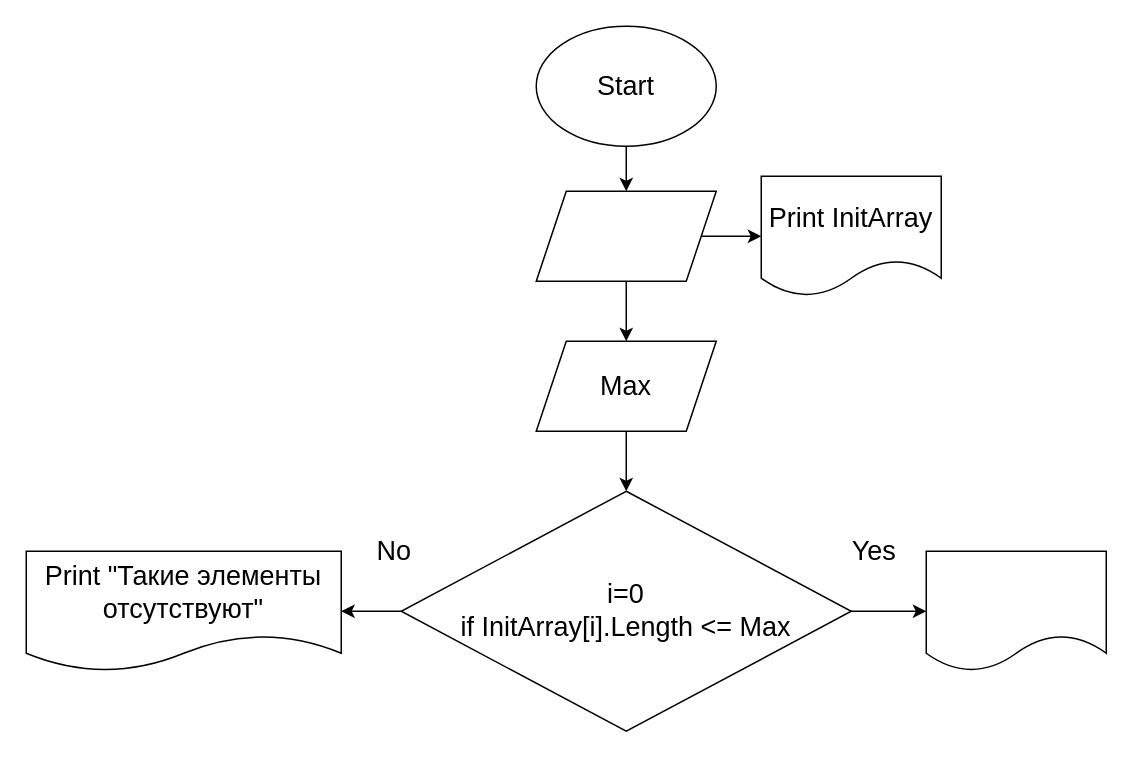
This 1133x758 diagram has some shape labels left out. Here are the shapes that lost their labels. From the top down, the centre of each, then its label:
pixel 625 235: InitArray
pixel 1015 610: Print ResArray
